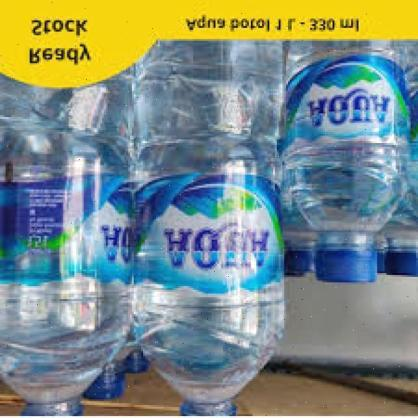bottle: (288, 15, 402, 292)
cap: (310, 237, 382, 287)
label: (286, 65, 406, 139)
